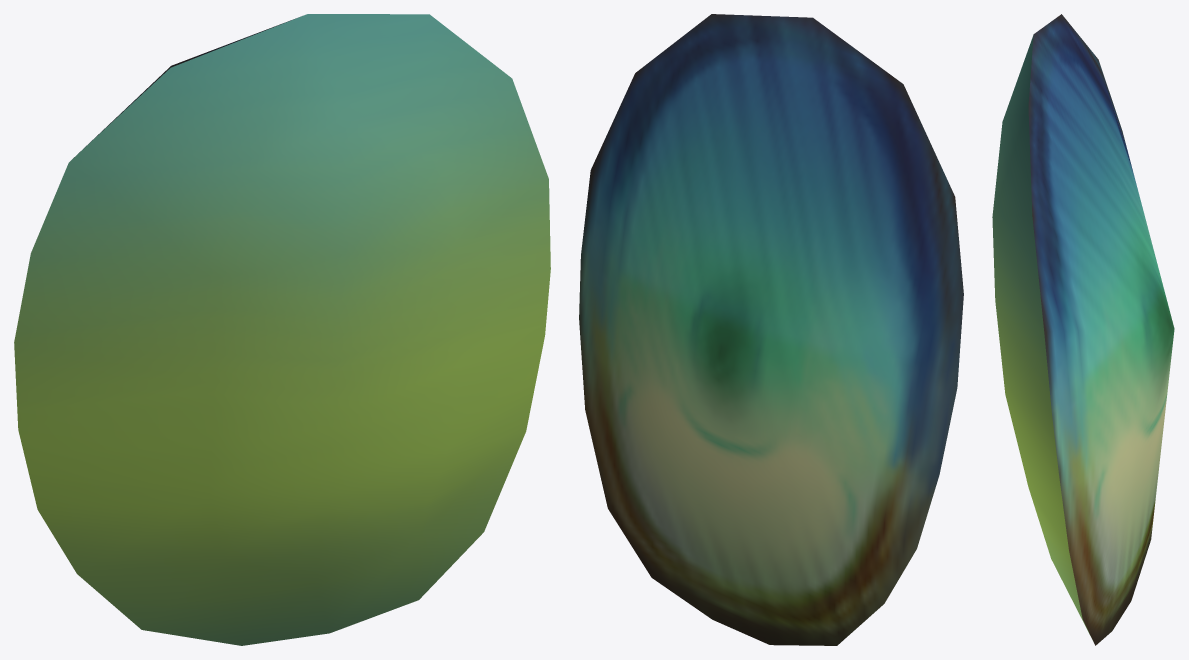
File: Eye_00_R.fbx
3 views of the same model, side by side, from view 1: azimuth 30°, elevation 25°; view 2: azimuth 150°, elevation 25°; view 3: azimuth 270°, elevation 25° (orthographic). The views are drawn at different scales.
Parts seen in each view (by area): view 1: Eye_00_R_Cover; view 2: Eye_00_R; view 3: Eye_00_R, Eye_00_R_Cover.
Boxes of the visible parts, bbox=[...] form: Eye_00_R_Cover: bbox=[14, 14, 550, 645]; Eye_00_R: bbox=[579, 14, 963, 645]; Eye_00_R: bbox=[1028, 14, 1174, 645]; Eye_00_R_Cover: bbox=[992, 35, 1093, 641].
Size of the model in its own units: 5.2 by 6.91 by 2.
1 material, 1 textured.
